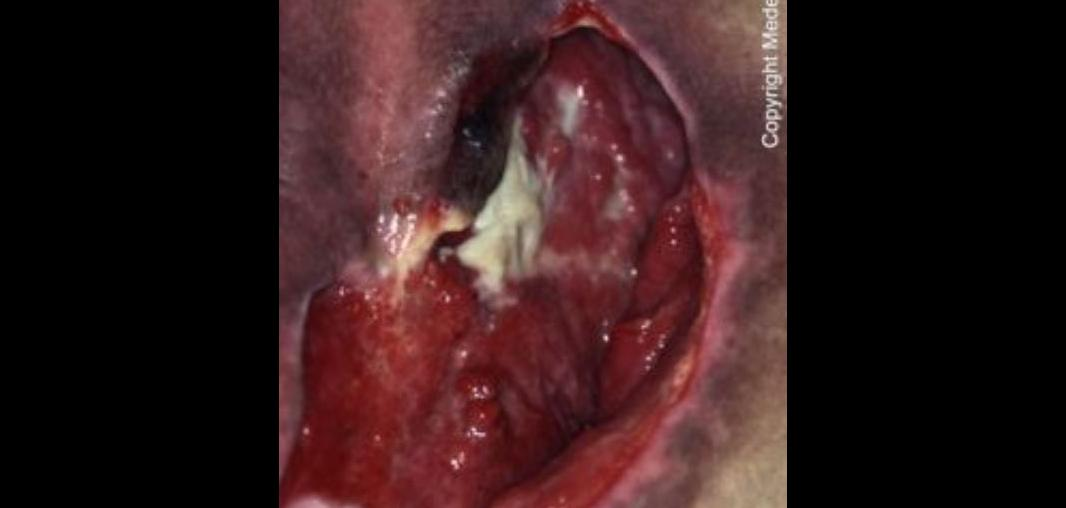Stage4: (290, 0, 787, 508)
